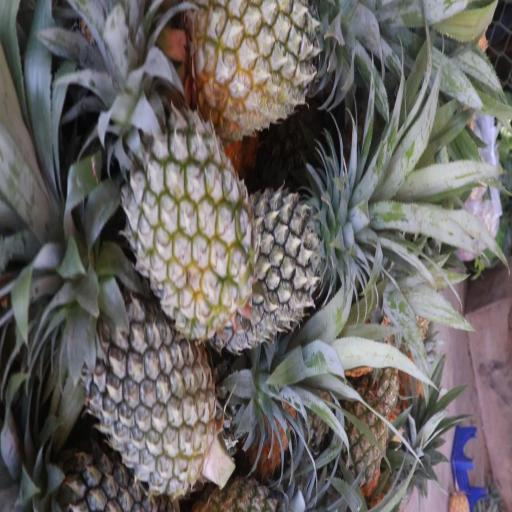------------------------------: (123, 104, 251, 328), (196, 0, 366, 136)
